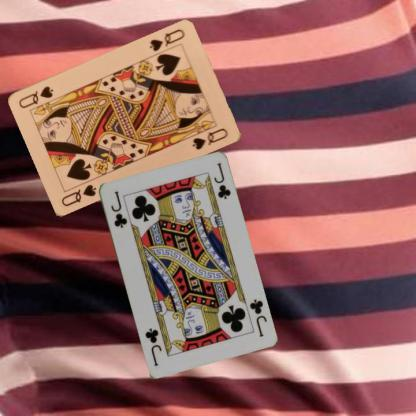Jc: (247, 296, 268, 338), (108, 186, 128, 229)
Qs: (146, 27, 187, 53), (58, 182, 98, 208)
